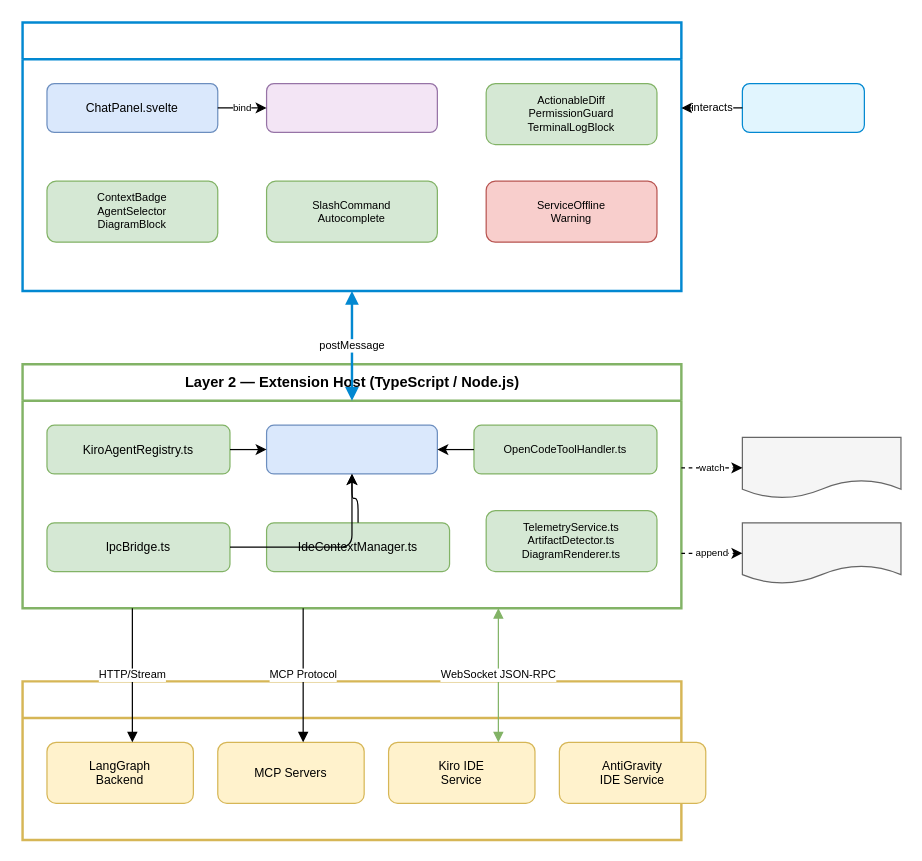
Image size: 922x861. Some labels were removed from this diagram. Each missing label, with the box of its shape:
.code-intel/agents/*.md: (741, 436, 901, 498)
.code-intel/telemetry.jsonl: (741, 522, 901, 584)
Developer: (741, 82, 864, 132)
Layer 1 — Webview (Svelte 4 + Vite 5): (21, 21, 682, 292)
Layer 3 — External Services: (21, 680, 682, 841)
MessageRouter.ts: (265, 424, 437, 474)
Svelte Stores (5 stores): (265, 82, 437, 132)
